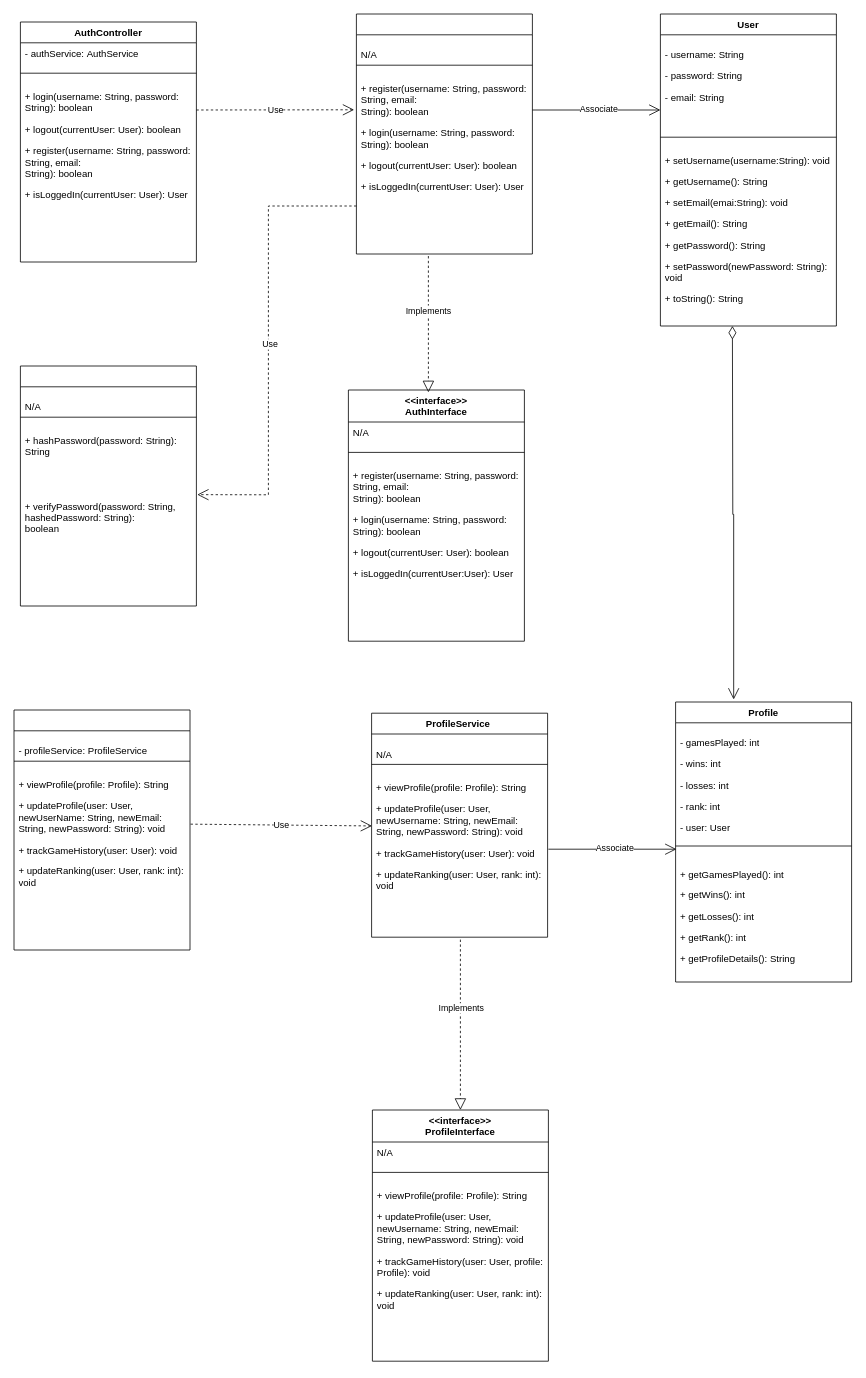
This 866x1378 diagram has some shape labels left out. Each missing label, with the box of its shape:
AuthService: (356, 13, 532, 254)
PasswordUtil: (20, 365, 196, 606)
ProfileController: (13, 709, 190, 950)
